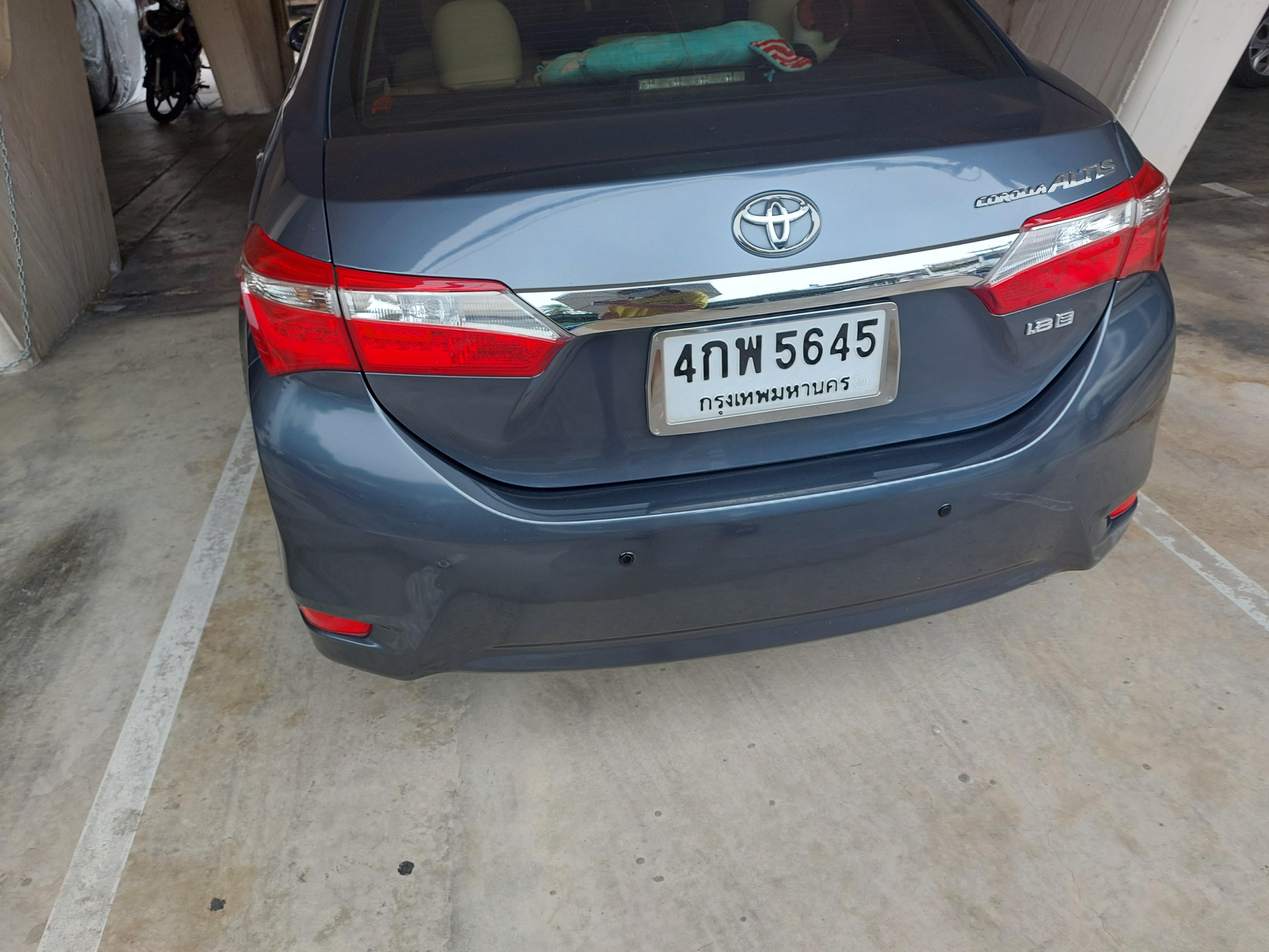license-plate: (646, 296, 905, 439)
